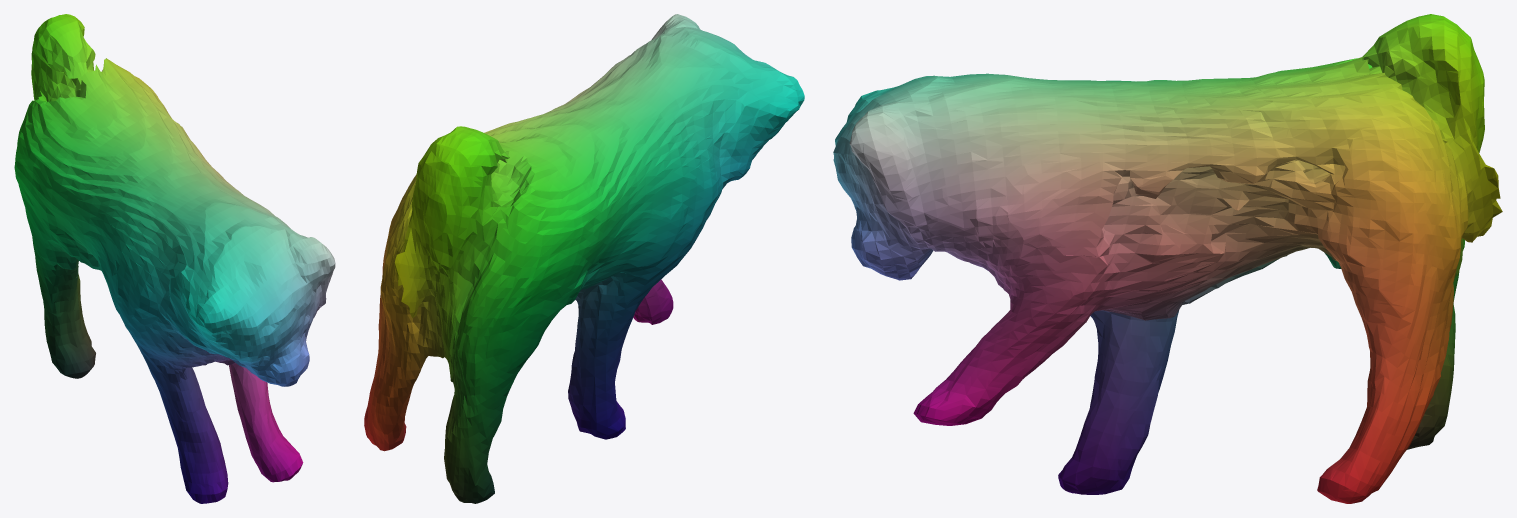
The model's file is shiba-haru-1001-mesh-00013.obj.
3 views of the same model, side by side, from view 1: azimuth 30°, elevation 25°; view 2: azimuth 150°, elevation 25°; view 3: azimuth 270°, elevation 25° (orthographic). The views are drawn at different scales.
Size of the model in its own units: 0.0548 by 0.0939 by 0.1207.
